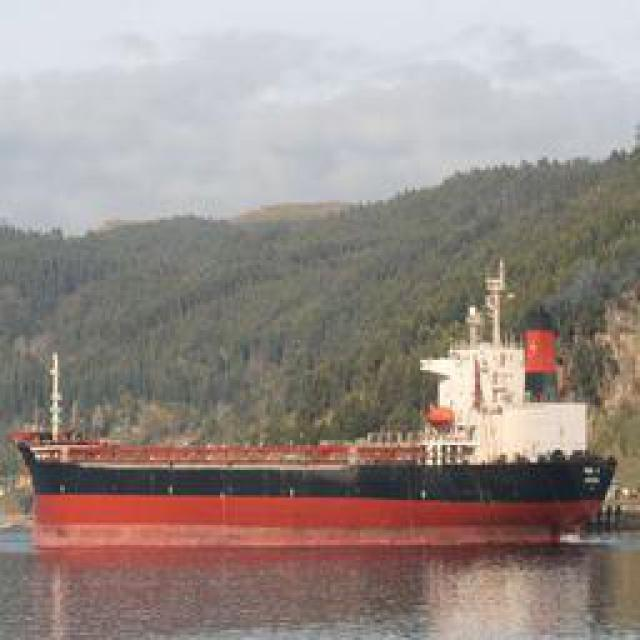Ship: (10, 426, 630, 551)
